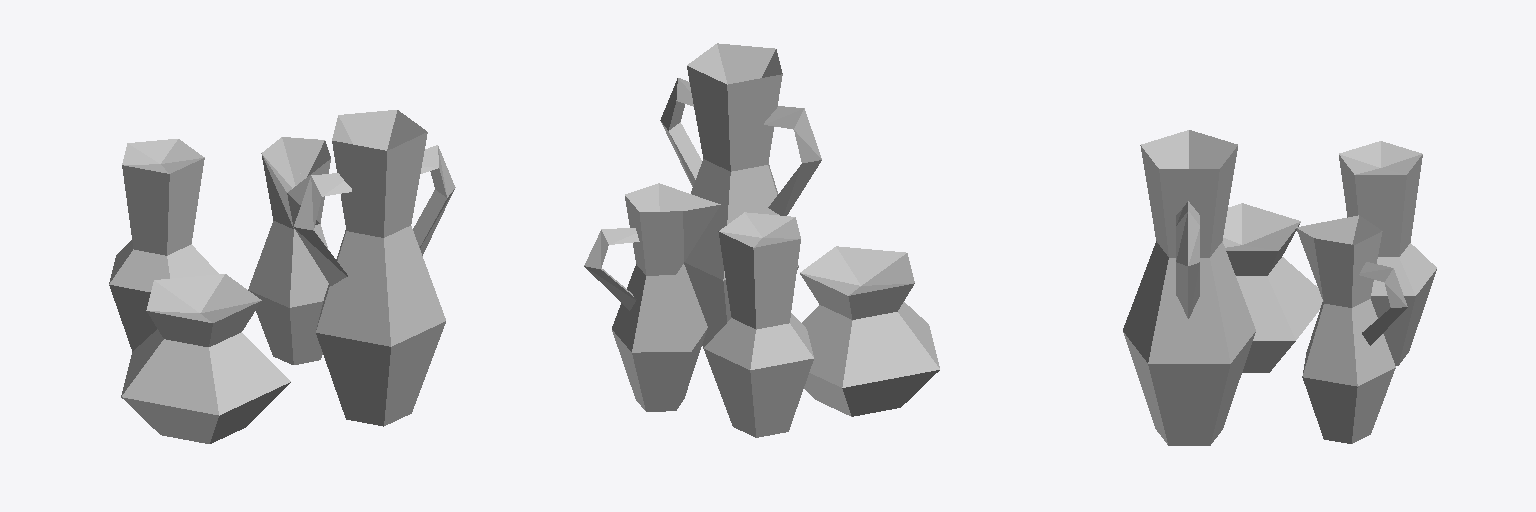
Rendered from Well03.obj.
3 renders of one model, left to right at view 1: azimuth 30°, elevation 25°; view 2: azimuth 150°, elevation 25°; view 3: azimuth 270°, elevation 25°, orthographic.
Parts seen in each view (by area): view 1: Mesh_0; view 2: Mesh_0; view 3: Mesh_0.
Part boxes in pixels (left/top/right/bottom): Mesh_0: left=109, top=110, right=455, bottom=443; Mesh_0: left=584, top=43, right=939, bottom=437; Mesh_0: left=1123, top=130, right=1436, bottom=445.
Bounding box in the file's own units: 1.15 × 1.01 × 1.02.